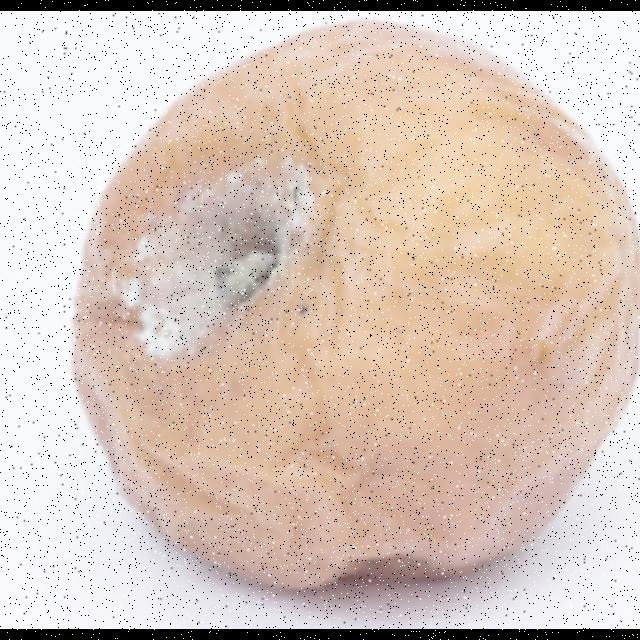Apel Tidak Segar: (66, 11, 640, 596)
